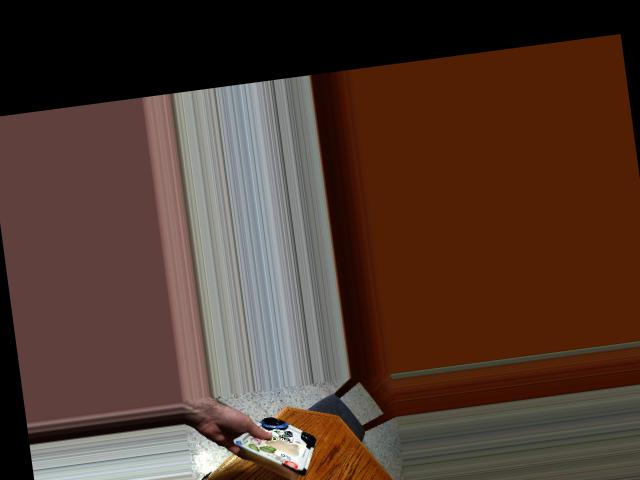cheese: (236, 408, 327, 480)
